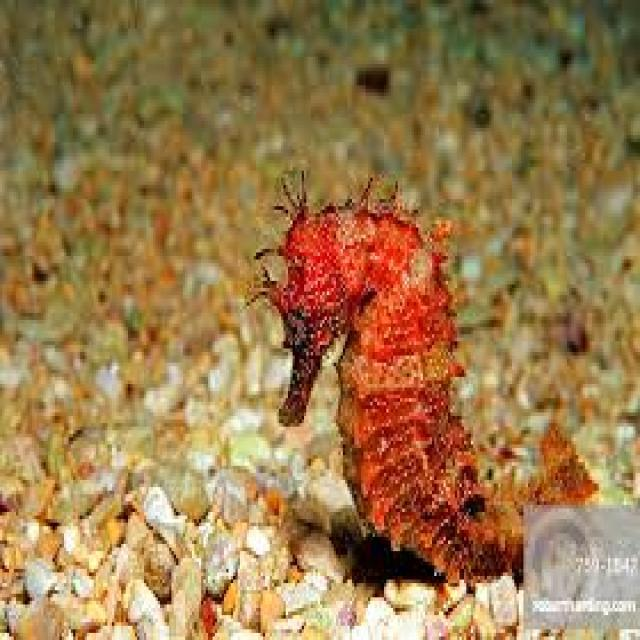SeaHorse: (256, 178, 601, 598)
